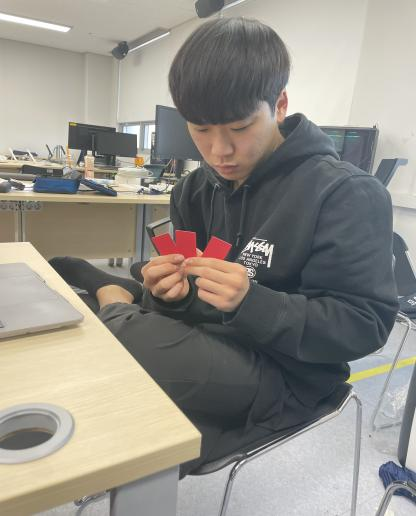ThreeHwatoo: (137, 217, 250, 276)
